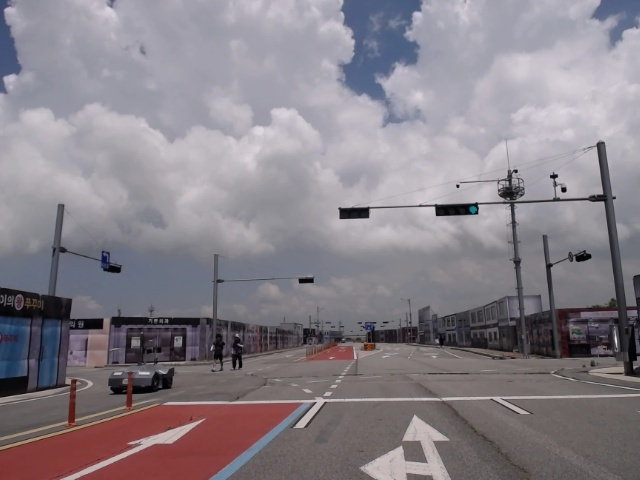straight_green_4: (436, 206, 480, 215)
